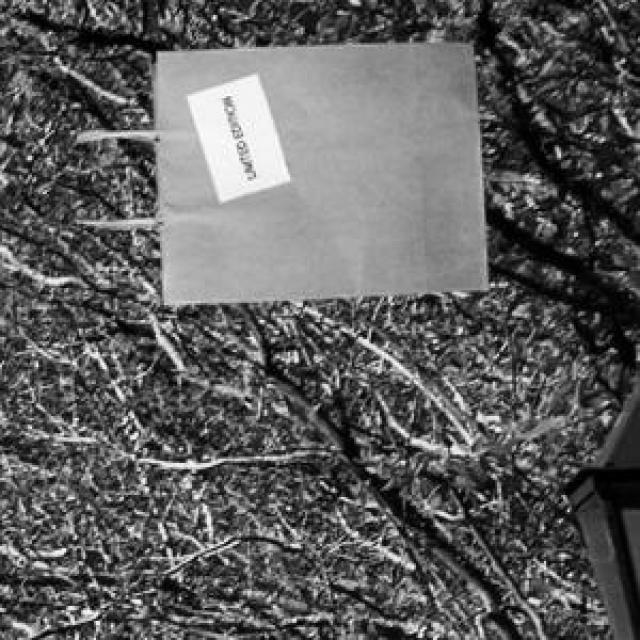paper: (73, 38, 483, 301)
